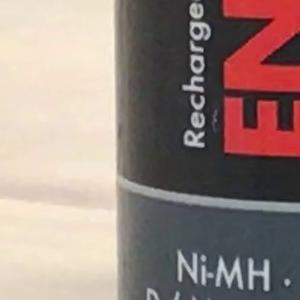keyword: (168, 249, 275, 293)
